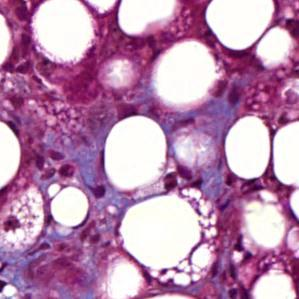steatosis: (225, 112, 274, 181)
